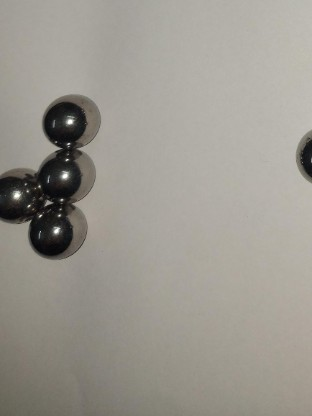ironball: (27, 199, 95, 264), (33, 146, 96, 209), (0, 162, 53, 226), (39, 90, 97, 146), (290, 121, 310, 188)
